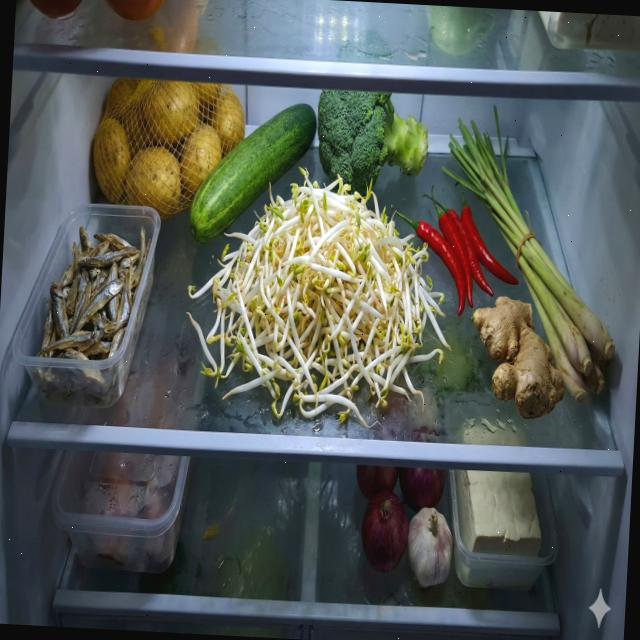anchovies: (34, 221, 153, 412)
bean_sprouts: (182, 160, 462, 434)
brocolli: (314, 28, 435, 201)
chili: (384, 177, 526, 321)
cucumber: (188, 98, 318, 250)
garlic: (406, 506, 456, 588)
ginger: (467, 294, 570, 420)
lemongrass: (430, 102, 628, 406)
onion: (350, 463, 446, 577)
potato: (90, 76, 248, 226)
tofu: (450, 468, 544, 558)
